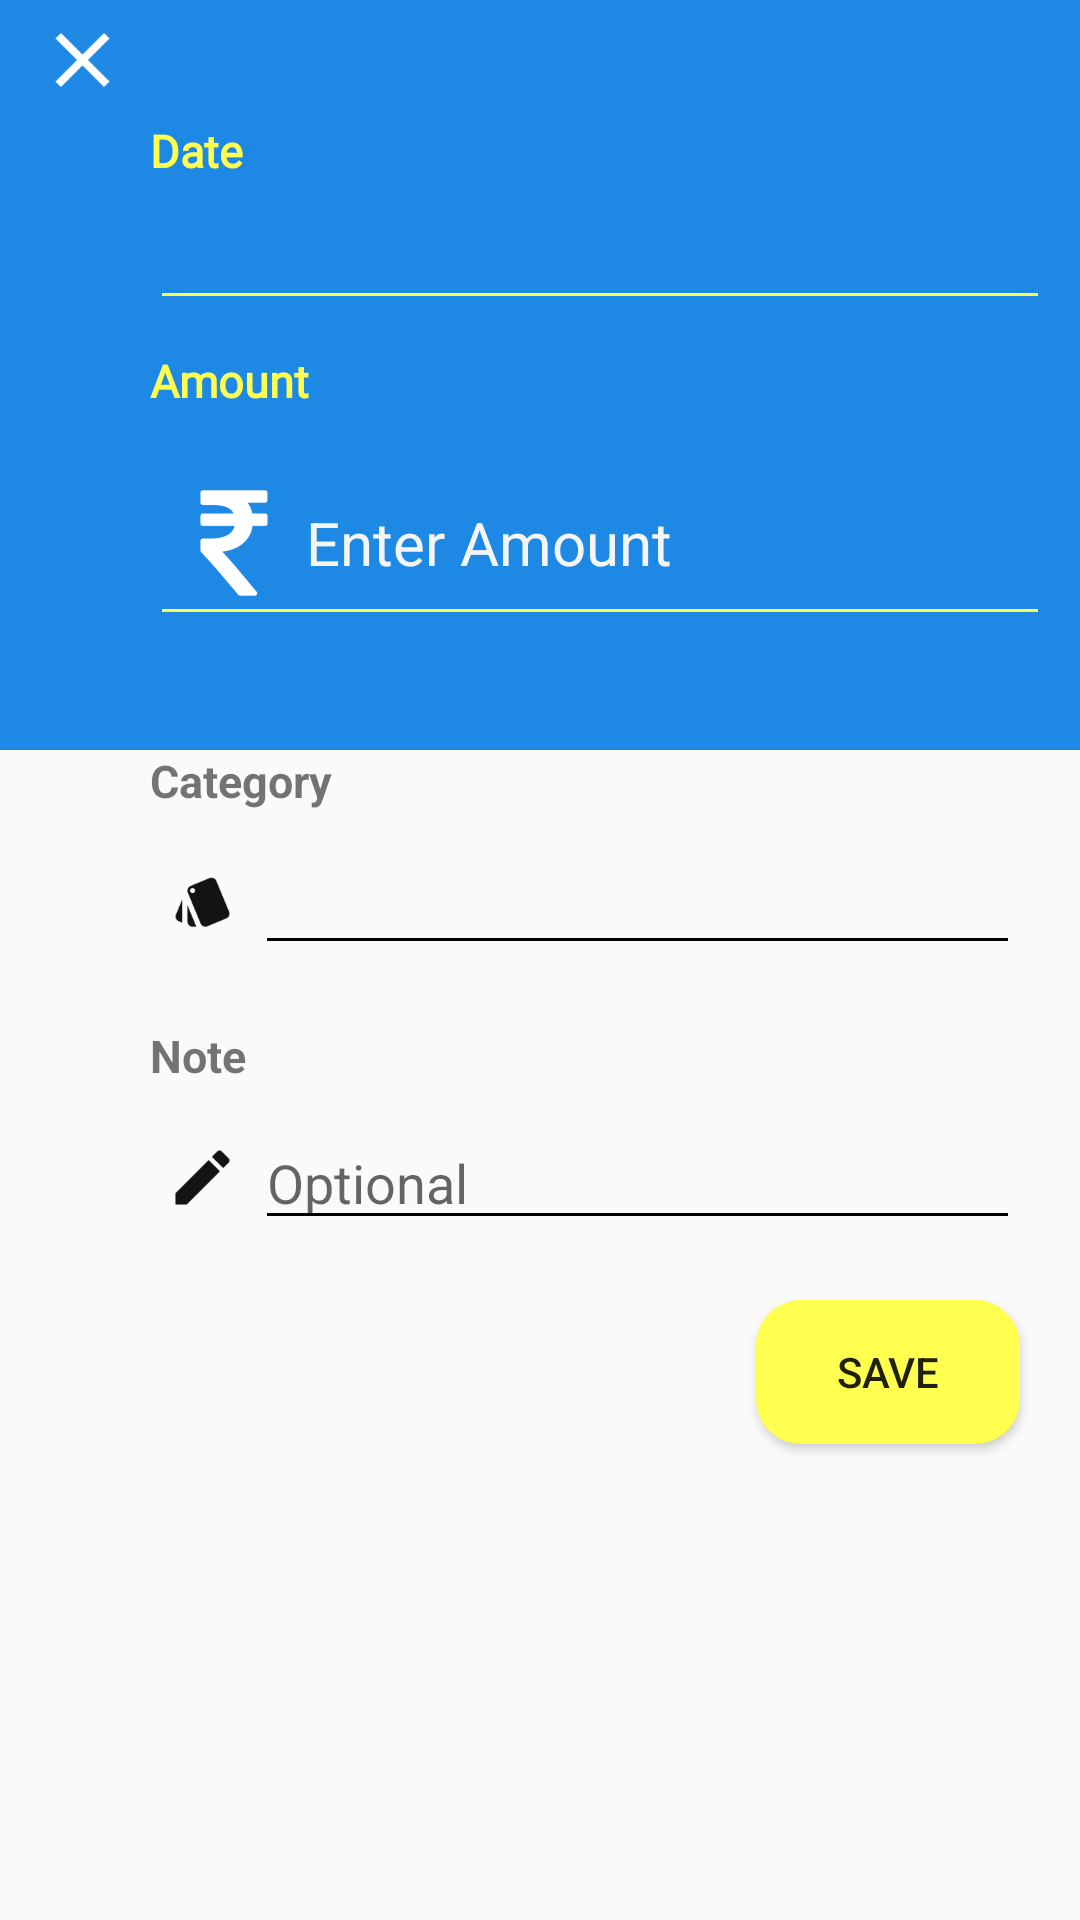

Screen size 1080px×1920px. Icon name, then its box in pixels as (x1=x1, y1=y1, x2=x2, y2=y2):
close: (x1=55, y1=33, x2=110, y2=87)
